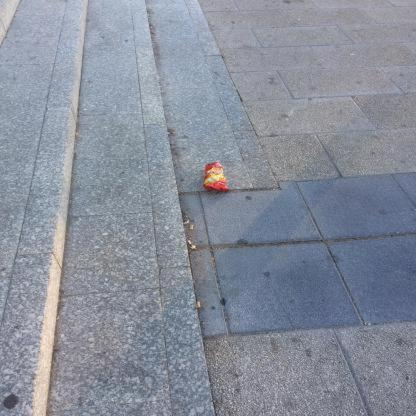Cigarette: (197, 302, 201, 308), (190, 224, 194, 230), (188, 241, 192, 245), (152, 32, 156, 34), (298, 19, 300, 21), (150, 27, 152, 29), (86, 81, 90, 82), (76, 134, 78, 136)
Plastic bag - wrapper: (202, 161, 230, 192)
